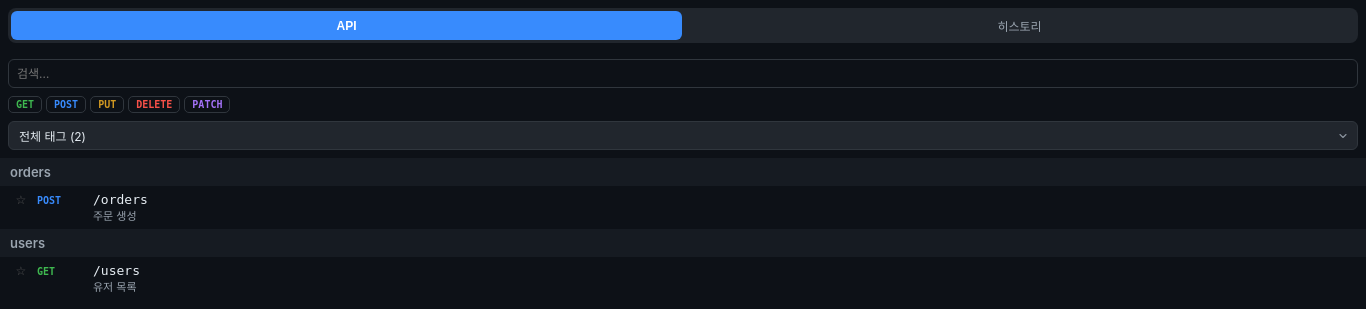
Scenario: Sidebar - API 탭 › 메서드 필터 토글로 GET만 남긴다
Click the button "GET" at (25, 104), box [8,96,42,113]
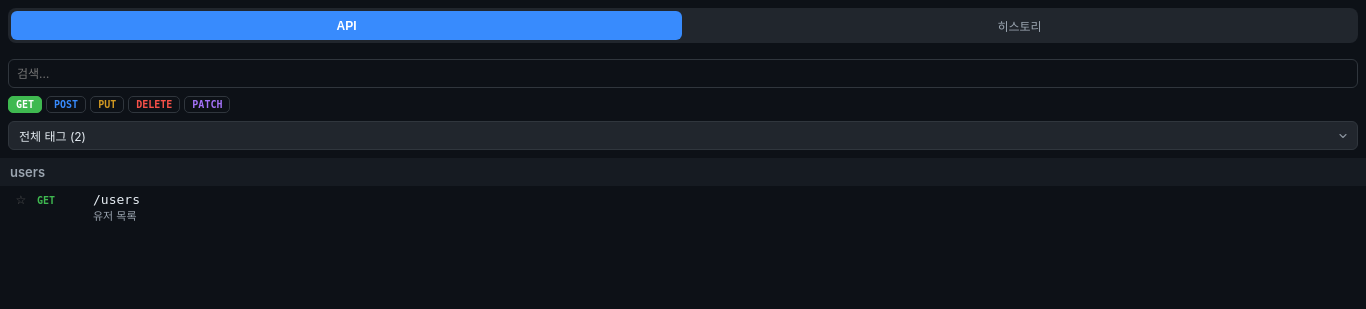
Check: the text "/users" is shown, box [93,192,140,207]
Check: the text "/orders" is gone
